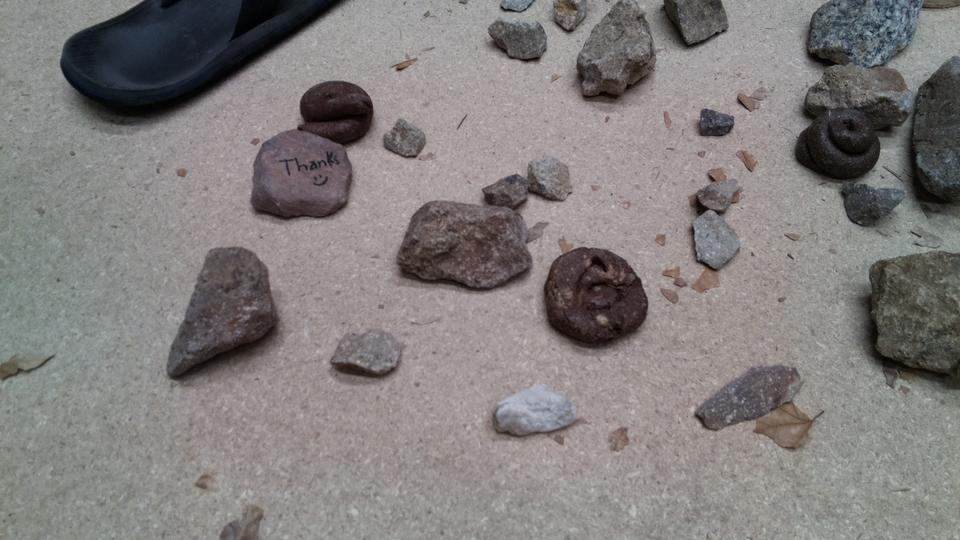poop: (541, 245, 651, 349), (794, 105, 882, 183), (293, 79, 374, 148)
